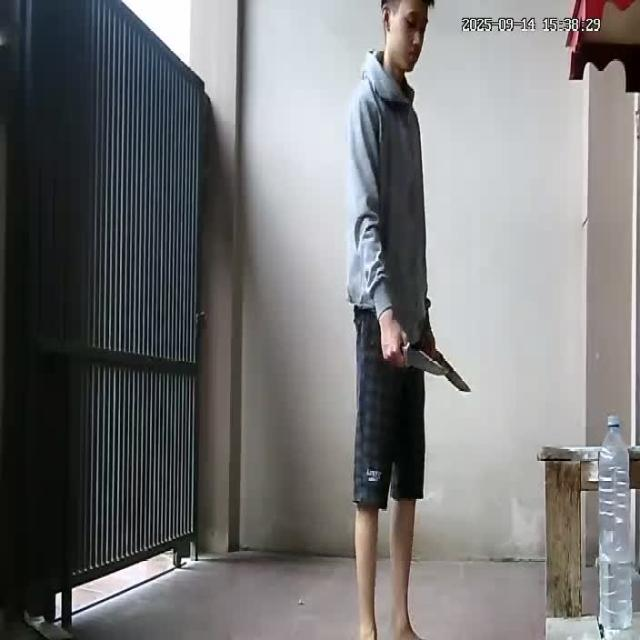senjata_tajam: (434, 349, 474, 394), (403, 344, 451, 376)
